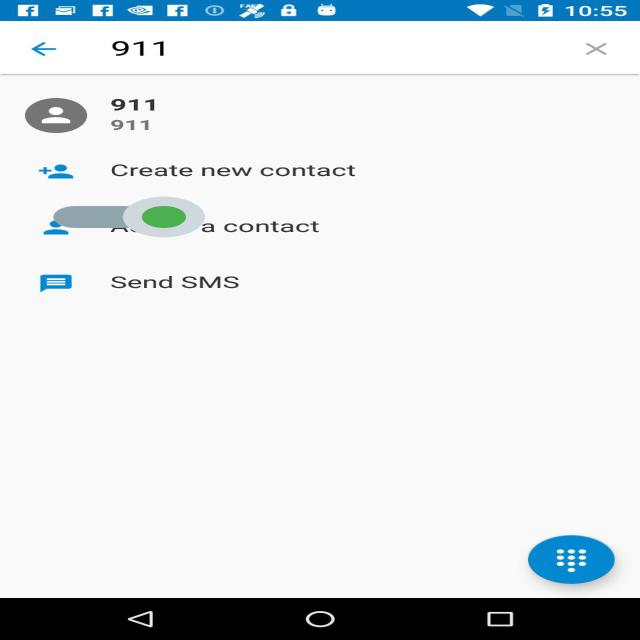social proof: (53, 179, 205, 255)
